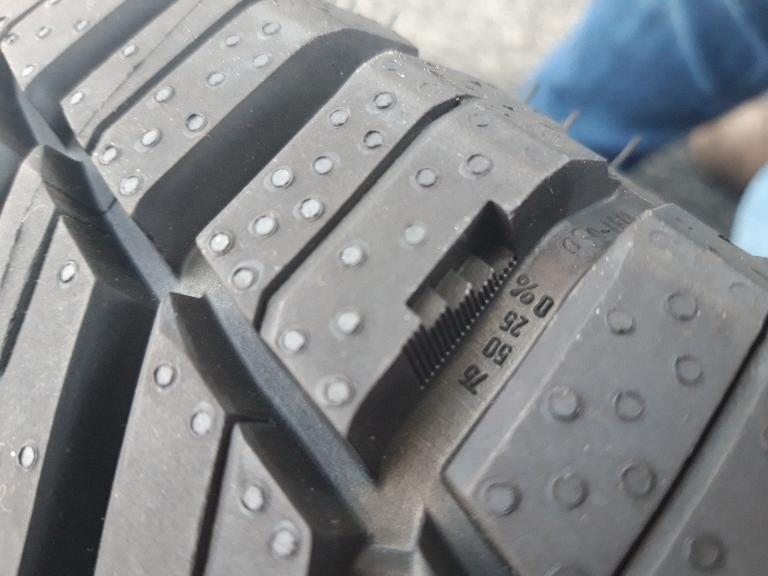temoin:100: (398, 199, 521, 391)
